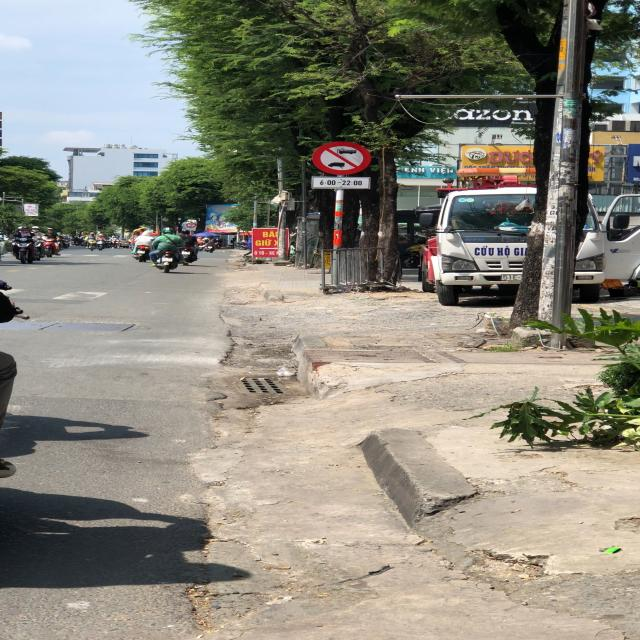Bien bao cam xe oto khach va xe oto tai: (307, 140, 372, 175)
